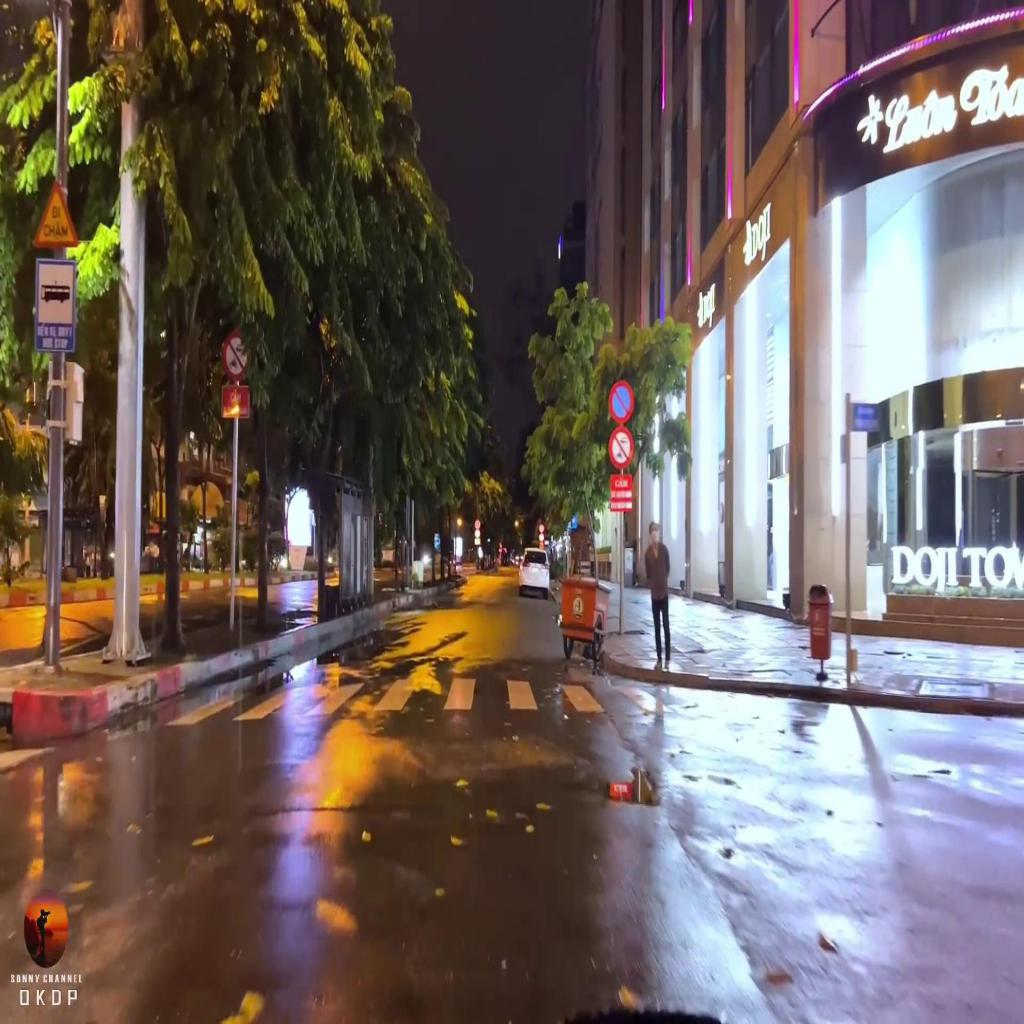cam_do_xe: (608, 379, 635, 425)
cam_xe_2_banh_va_xe_3_banh_co_dong_co: (223, 330, 251, 378), (608, 425, 635, 470)
di_cham: (33, 176, 79, 246)
khac: (36, 260, 74, 353)
